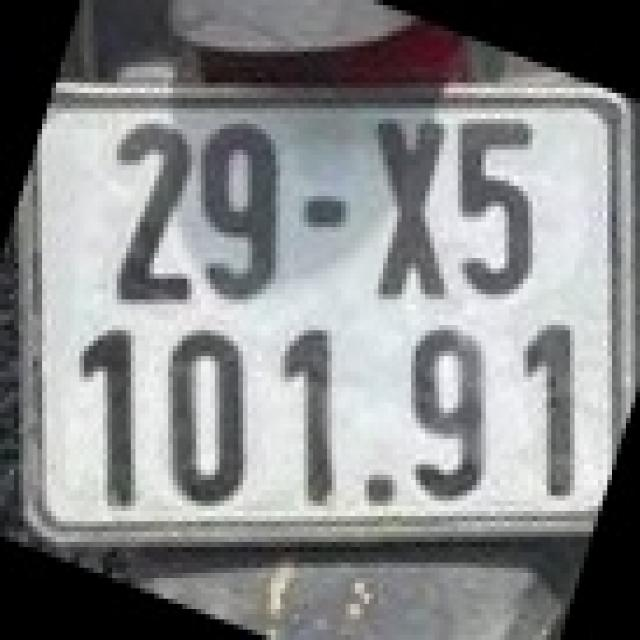0: (164, 325, 252, 506)
1: (75, 320, 149, 511), (514, 320, 588, 501), (276, 320, 346, 506)
2: (108, 113, 196, 304)
5: (453, 113, 542, 300)
9: (196, 118, 285, 304), (402, 320, 491, 501)
X: (369, 108, 449, 300)
